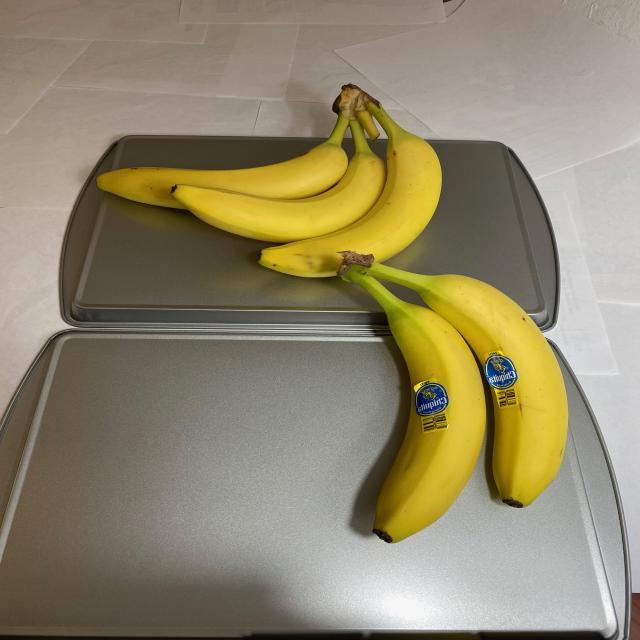banana: (334, 250, 574, 551), (91, 84, 444, 285)
